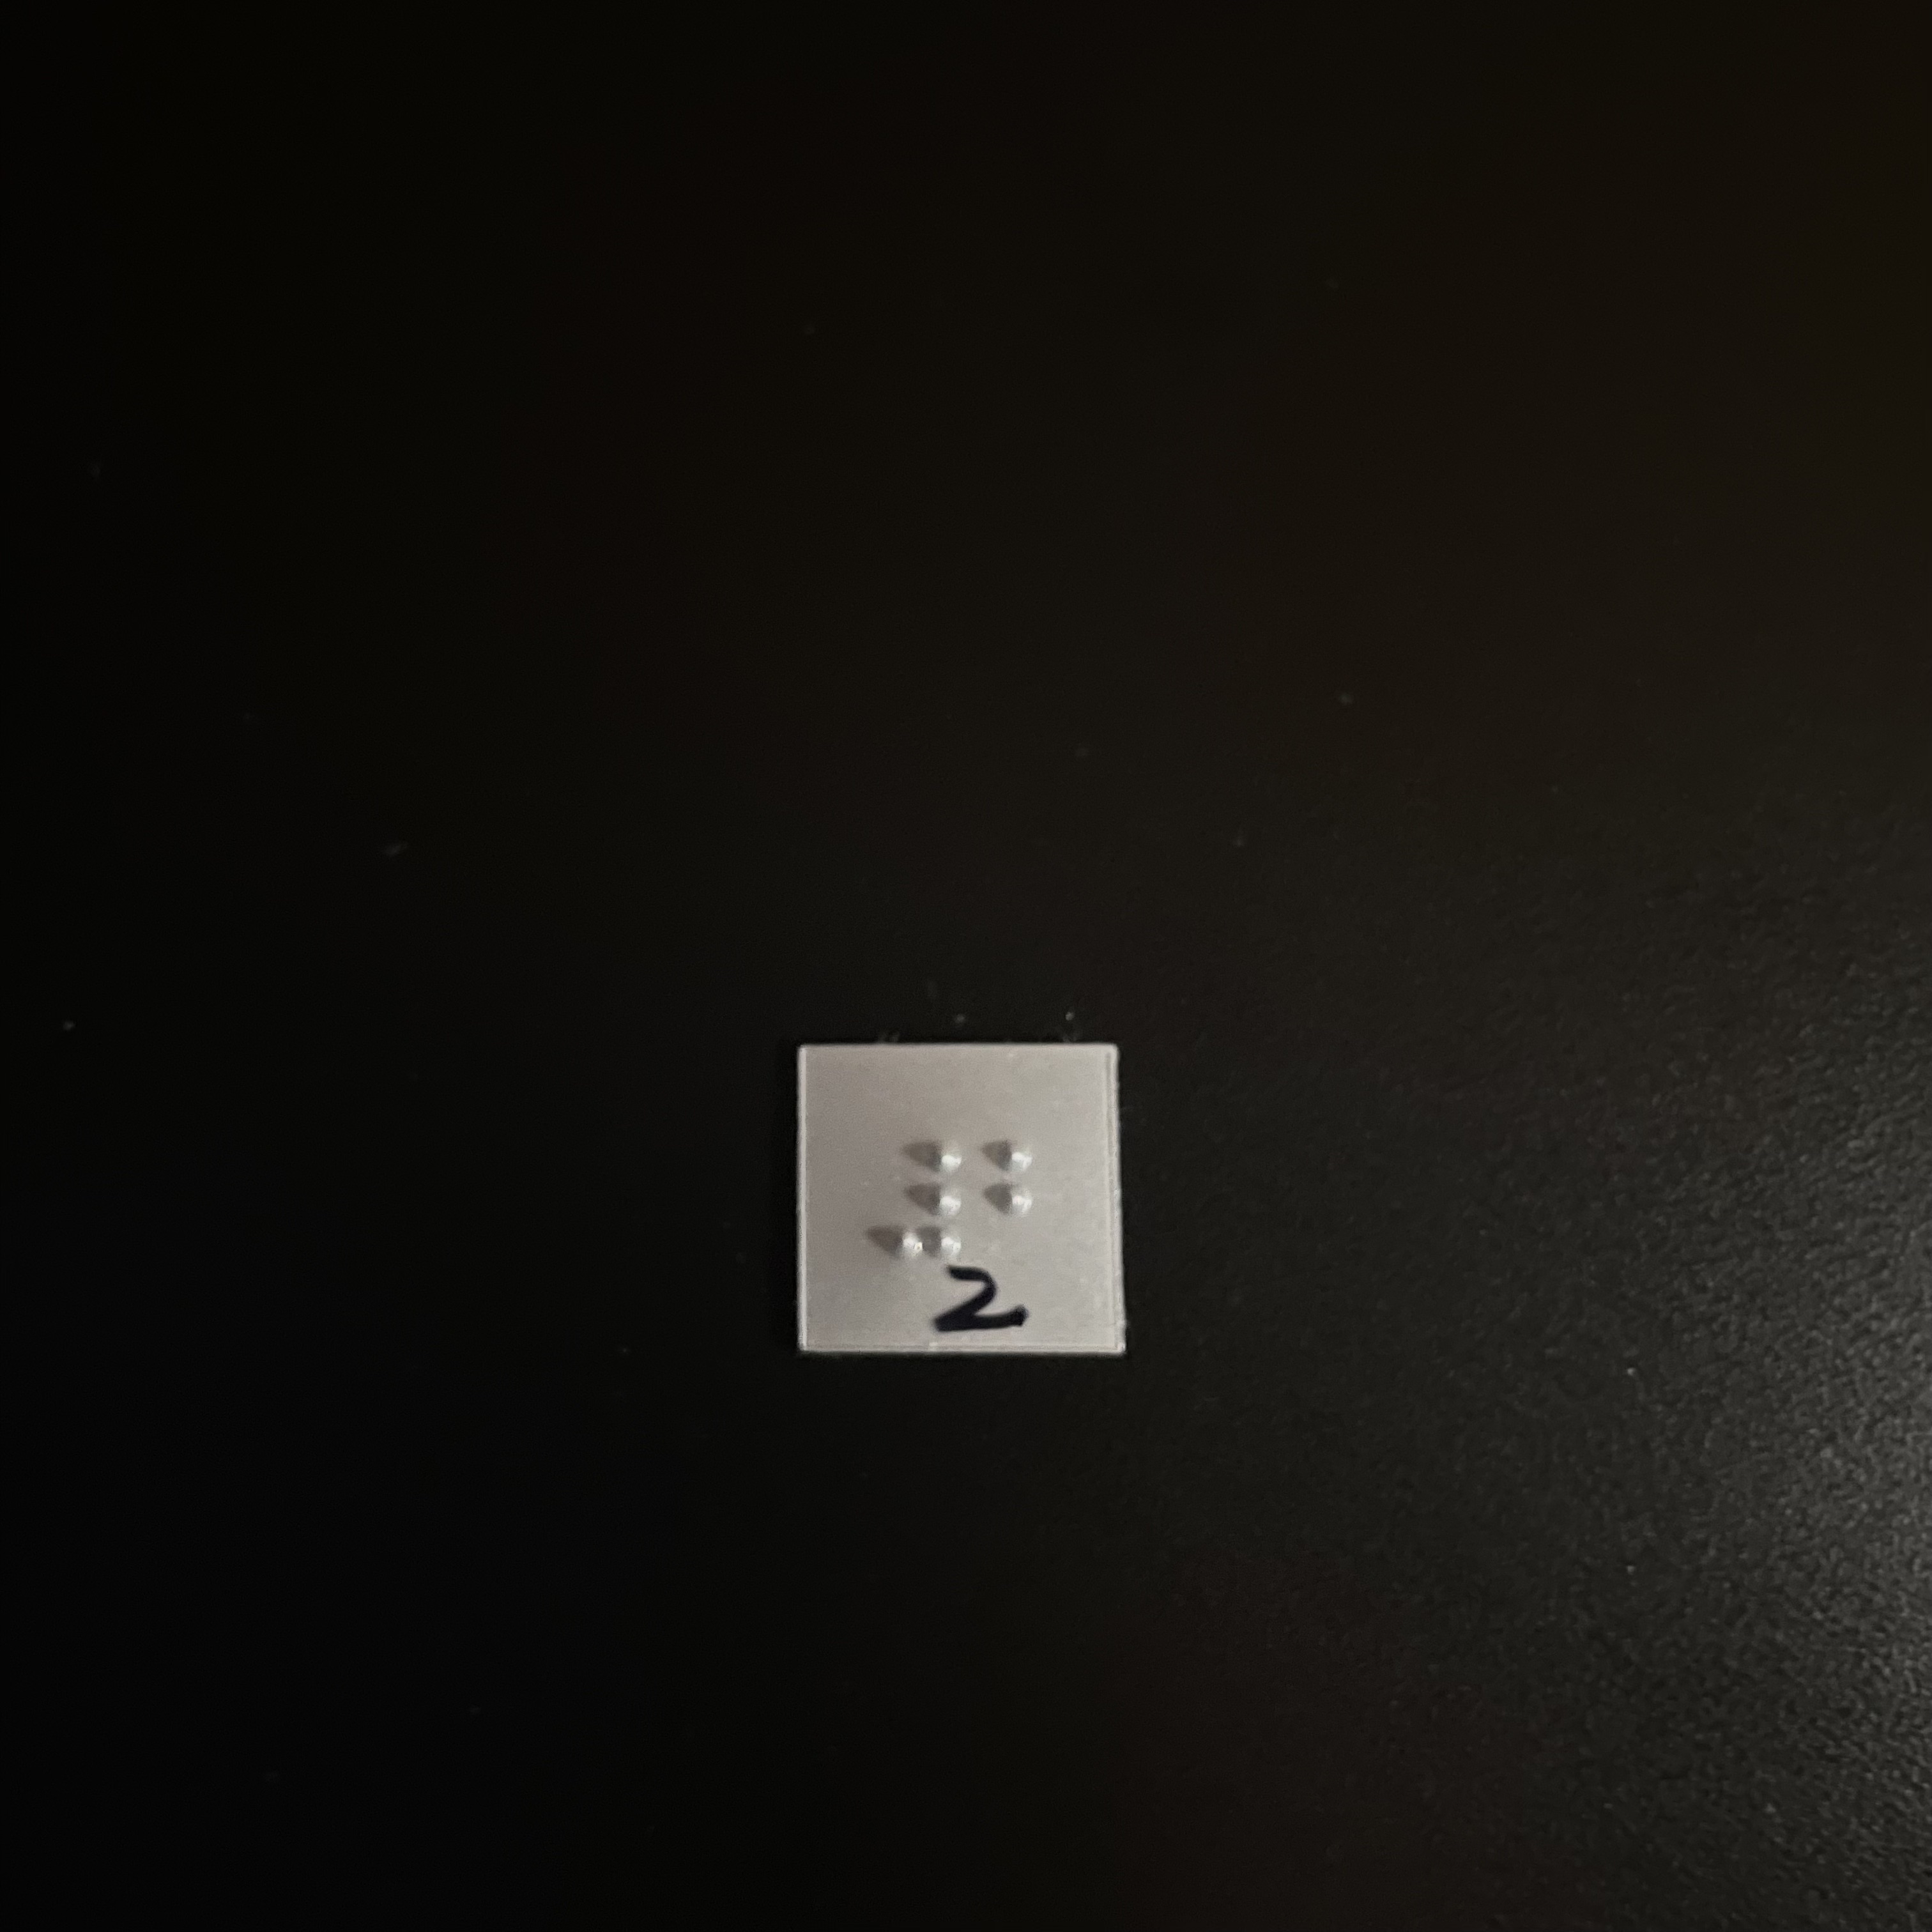#: (873, 1141, 967, 1269)
b: (985, 1143, 1073, 1271)
